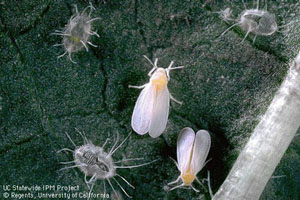whitefly: (128, 55, 184, 138), (167, 127, 211, 194)
